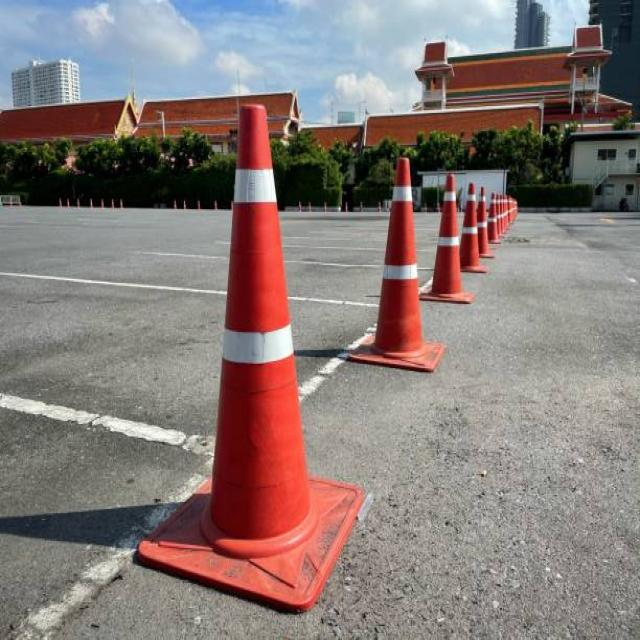Traffic Cone: (116, 58, 399, 636), (344, 141, 446, 378), (421, 160, 477, 312)
